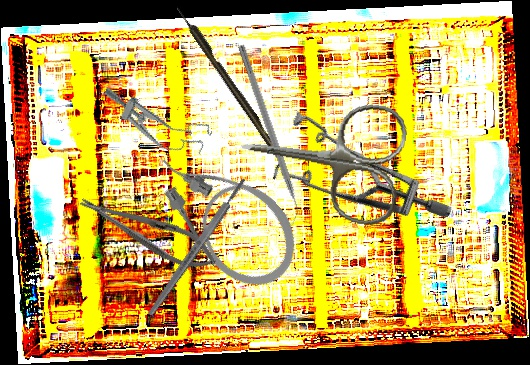Cannula: (140, 122, 315, 305)
Chopper: (228, 43, 306, 228)
Hook Surgical: (174, 4, 285, 161)
Iris Scissors: (231, 84, 411, 230)
Needle Holder: (74, 183, 223, 280)
Scalpel Handle: (145, 176, 249, 318)
Speculum: (249, 69, 456, 286), (93, 78, 215, 166)
